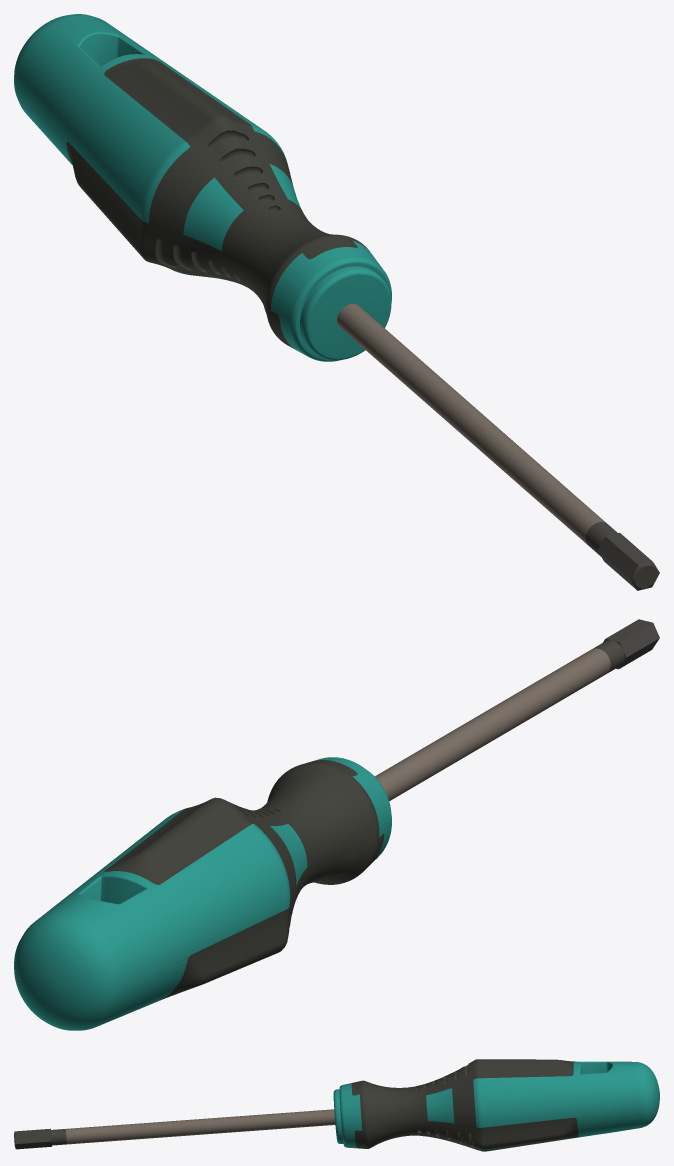
The model's file is 螺丝刀.FBX.
3 views of the same model, one above another, from view 1: azimuth 30°, elevation 25°; view 2: azimuth 150°, elevation 25°; view 3: azimuth 270°, elevation 25° (orthographic). The views are drawn at different scales.
Visible parts, largest first — view 1: D9011Man, D9011Pun, D9011Fla; view 2: D9011Man, D9011Pun, D9011Fla; view 3: D9011Man, D9011Pun, D9011Fla.
Boxes of the visible parts, x1,y1,x2,y2 form: D9011Man: (14, 14, 391, 361); D9011Pun: (337, 303, 605, 544); D9011Fla: (585, 522, 659, 590); D9011Man: (14, 757, 391, 1030); D9011Pun: (375, 648, 610, 801); D9011Fla: (593, 619, 659, 673); D9011Man: (333, 1059, 659, 1151); D9011Pun: (66, 1109, 335, 1144); D9011Fla: (14, 1128, 66, 1149).
Size of the model in its own units: 98.73 by 104 by 700.
